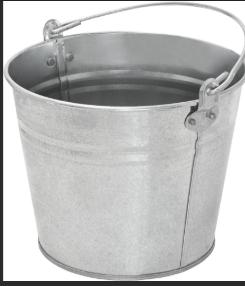SEAU: (1, 5, 245, 281)
